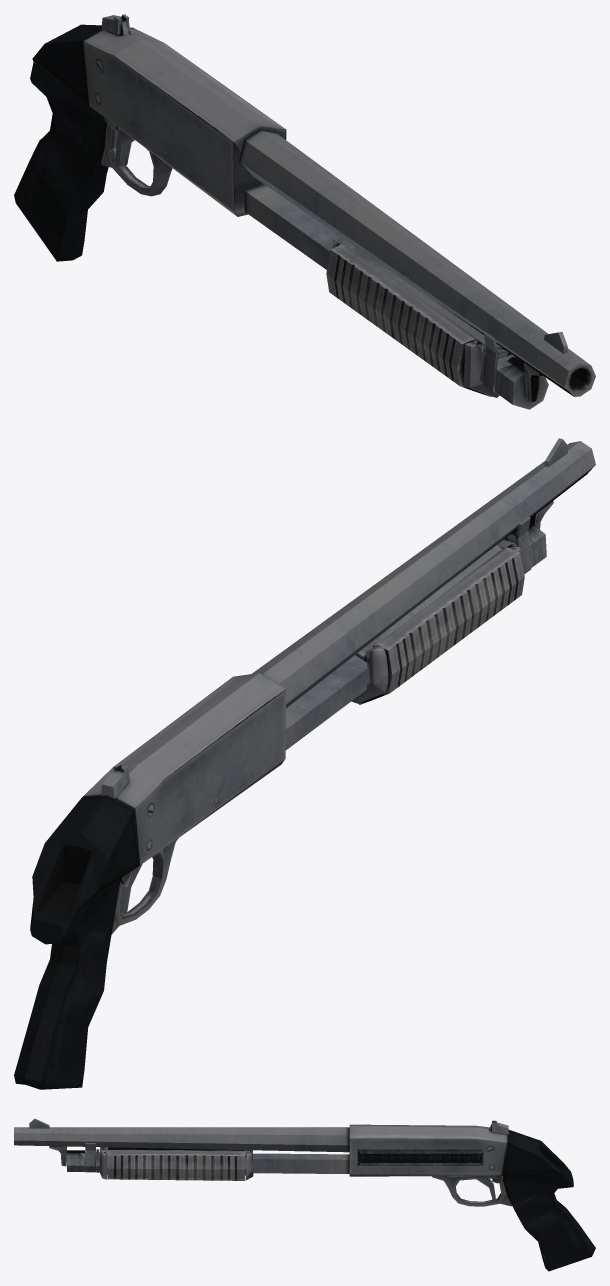
Rendered from A-CM_X360_WEAPON_Armat_M37A2_Pump_Shotgun.obj.
The picture shows the model from 3 angles, top to bottom: view 1: azimuth 30°, elevation 25°; view 2: azimuth 150°, elevation 25°; view 3: azimuth 270°, elevation 25°; orthographic projection. The views are drawn at different scales.
Bounding box in the file's own units: 0.0494 × 0.1969 × 0.6945.
Materials: 1 (1 with a texture image).
